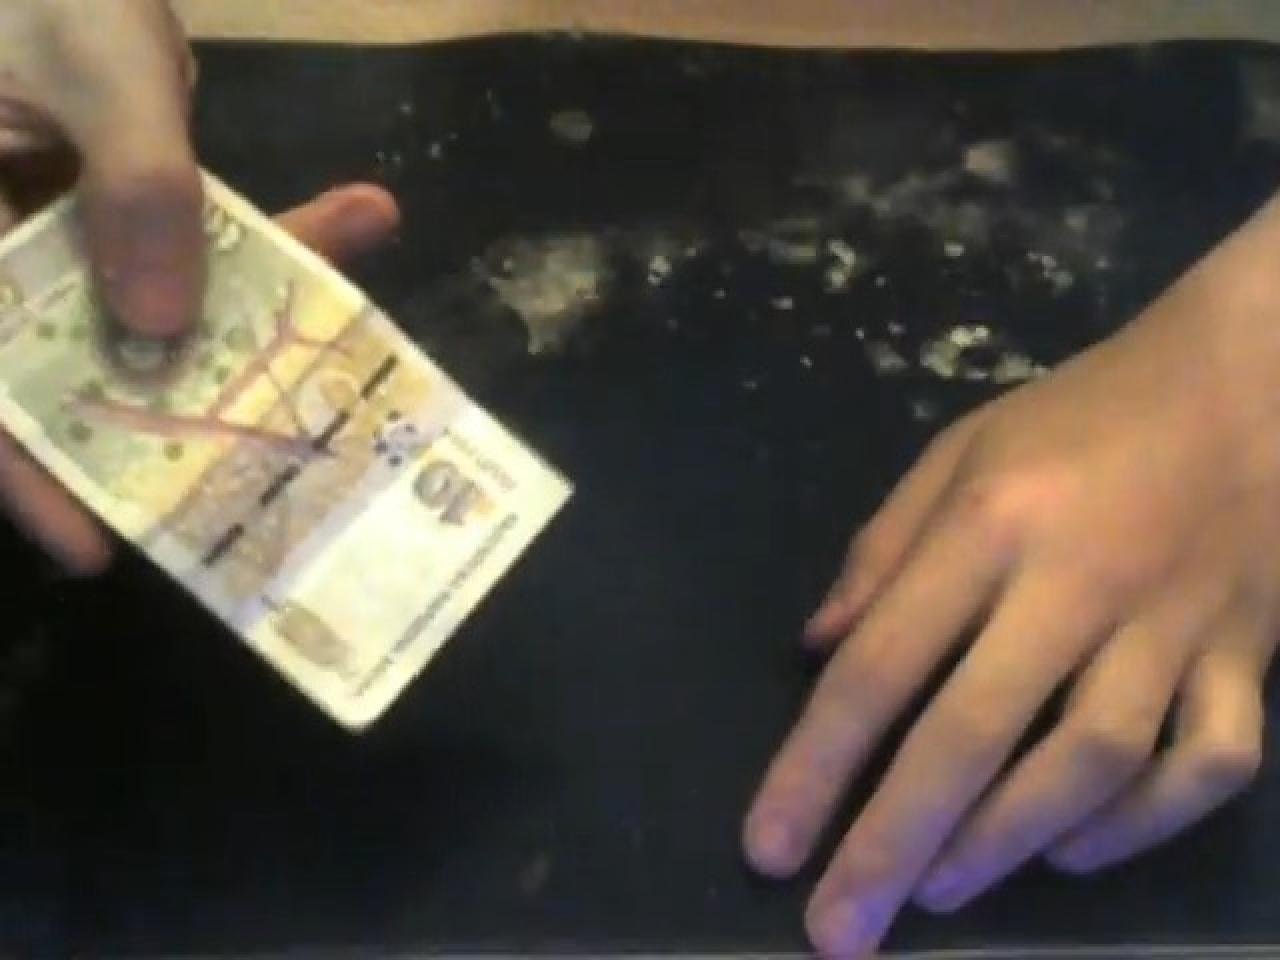10leva: (0, 162, 574, 733)
